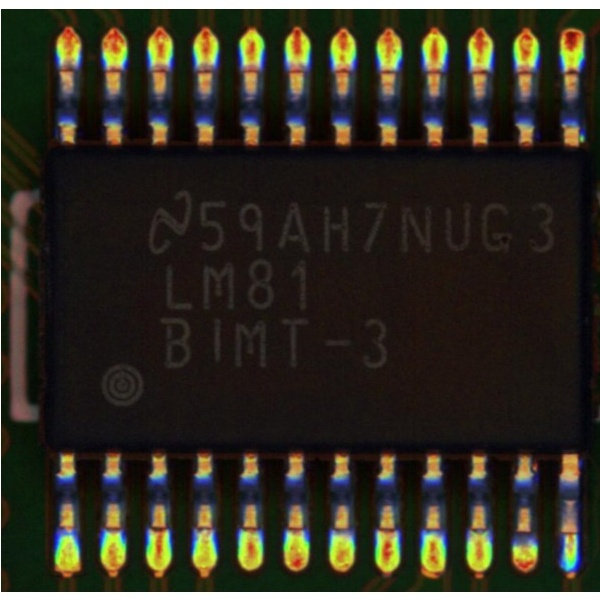Bad_podu: (151, 515, 163, 545), (336, 55, 348, 81), (564, 521, 574, 546)
